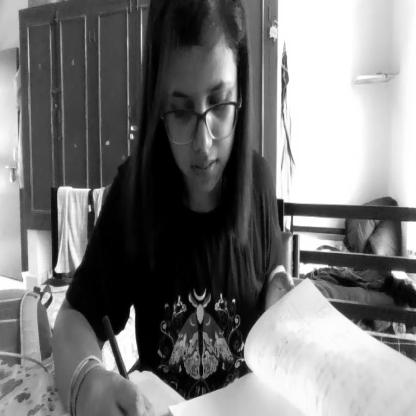Normal: (150, 2, 246, 197)
